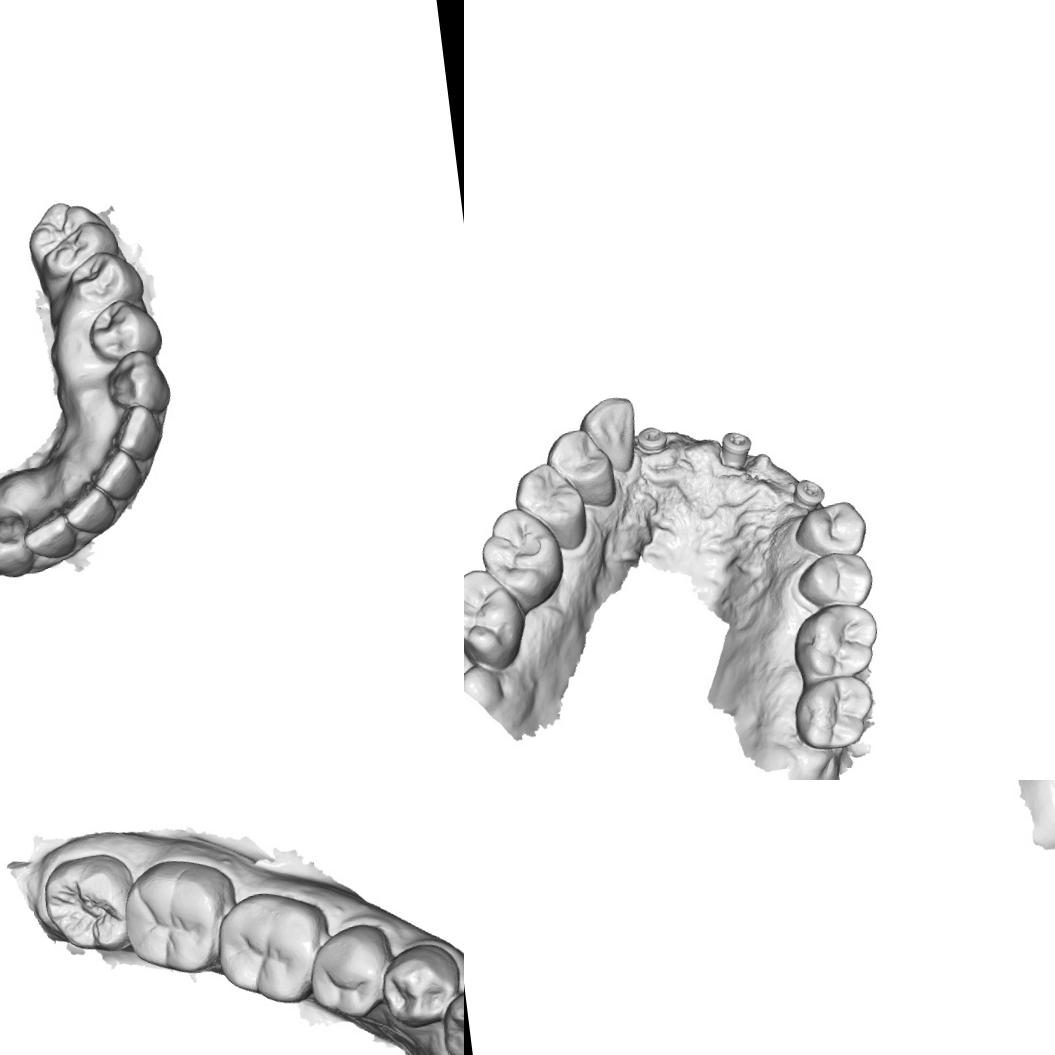canine: (102, 346, 173, 414), (578, 393, 641, 466), (0, 509, 35, 580), (437, 981, 464, 1055)
implant_minus: (637, 424, 671, 456)
implant_plus: (711, 427, 754, 472), (794, 475, 824, 506)
incisor: (113, 399, 165, 460), (62, 483, 118, 538), (92, 450, 147, 505), (23, 511, 77, 562)
molar: (120, 852, 244, 980), (212, 885, 334, 1011), (34, 853, 138, 958), (478, 503, 566, 604), (22, 196, 115, 280), (788, 599, 882, 682), (788, 672, 880, 754), (464, 564, 528, 673)
premolar: (306, 922, 394, 1020), (382, 945, 456, 1025), (792, 547, 878, 614), (510, 458, 586, 531), (543, 425, 616, 498), (86, 296, 164, 364), (790, 498, 870, 561), (69, 249, 148, 307)
